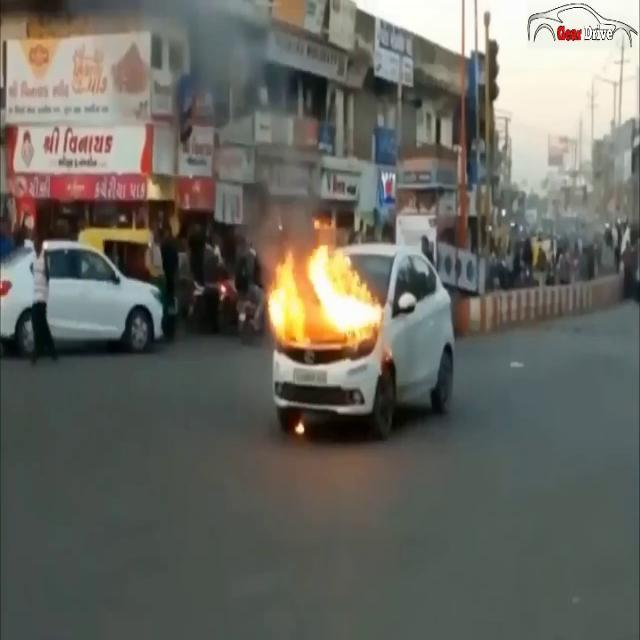Fire: (263, 225, 381, 348)
